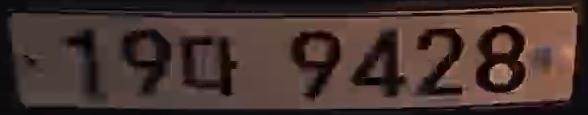1: (65, 22, 111, 105)
2: (408, 24, 471, 101)
4: (346, 23, 411, 101)
8: (472, 20, 530, 96)
9: (285, 23, 347, 103), (116, 24, 175, 100)
다: (177, 27, 240, 100)
